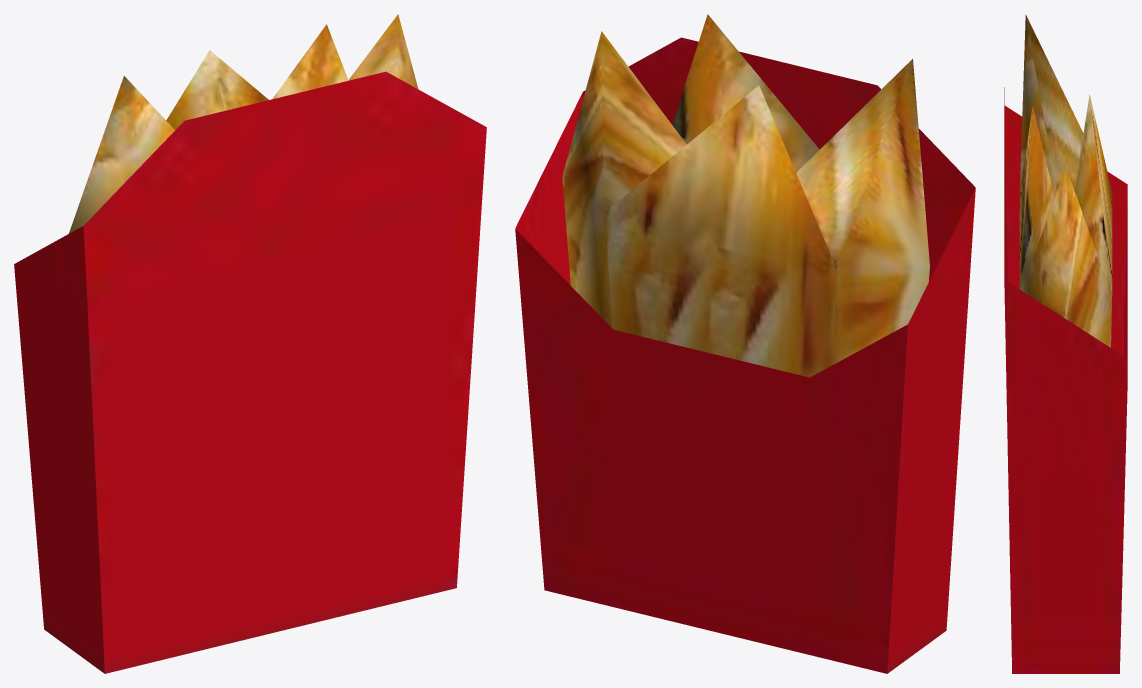
Rendered from potato_chips.glb.
3 views of the same model, side by side, from view 1: azimuth 30°, elevation 25°; view 2: azimuth 150°, elevation 25°; view 3: azimuth 270°, elevation 25° (orthographic). The views are drawn at different scales.
Parts seen in each view (by area): view 1: potato_chips; view 2: potato_chips; view 3: potato_chips.
Part boxes in pixels (x1,y1,x2,y2): potato_chips: [14, 14, 486, 673]; potato_chips: [515, 14, 975, 673]; potato_chips: [1004, 14, 1127, 673].
Bounding box in the file's own units: 0.0885 × 0.123 × 0.0265.
1 material, 1 textured.
